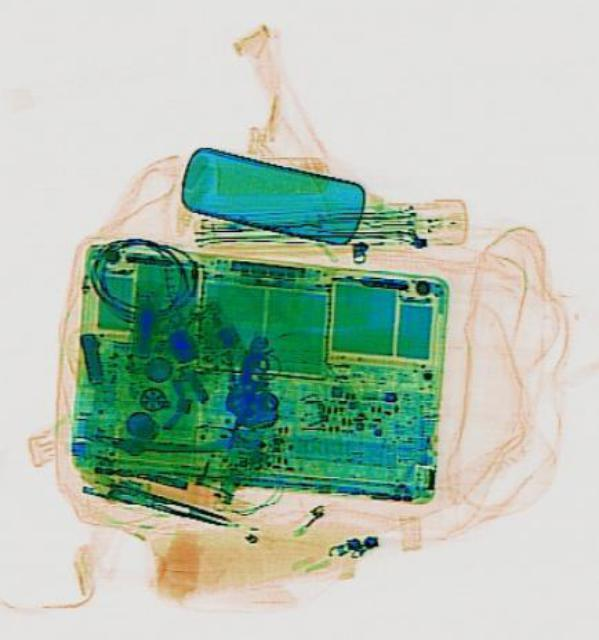Knife: (77, 471, 228, 527)
